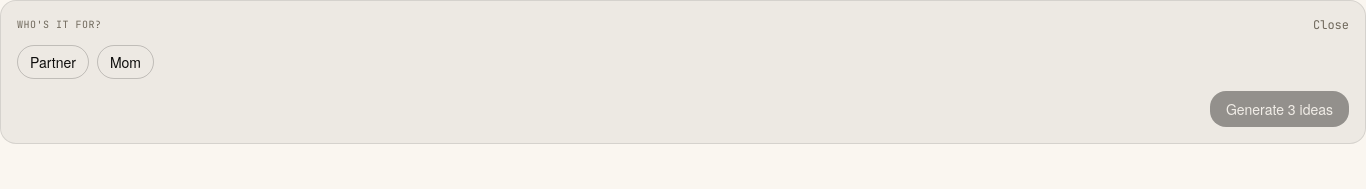
Test: CardMessageAssist › shows rate-limit copy on 429
Click the button "Partner".
click(53, 62)  # box [17, 45, 89, 79]
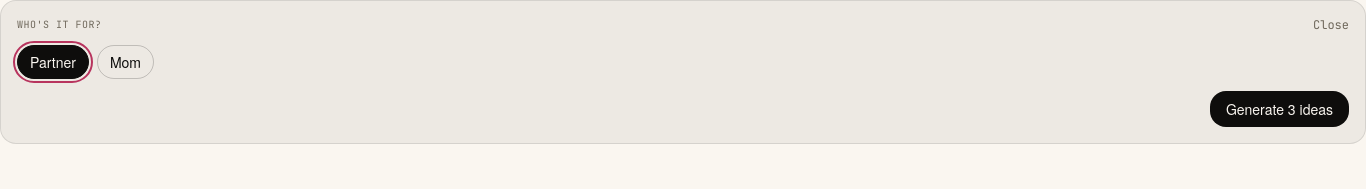
Click the button "Generate 3 ideas".
click(1279, 109)  # box [1210, 91, 1349, 127]
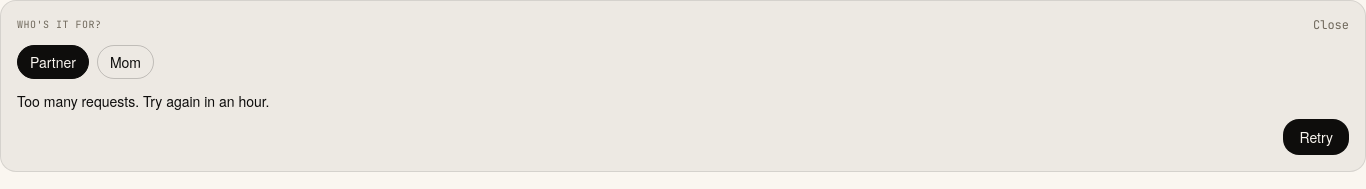
Result: the text "Too many requests. Try again in an hour." is shown at [17, 91, 269, 111]
